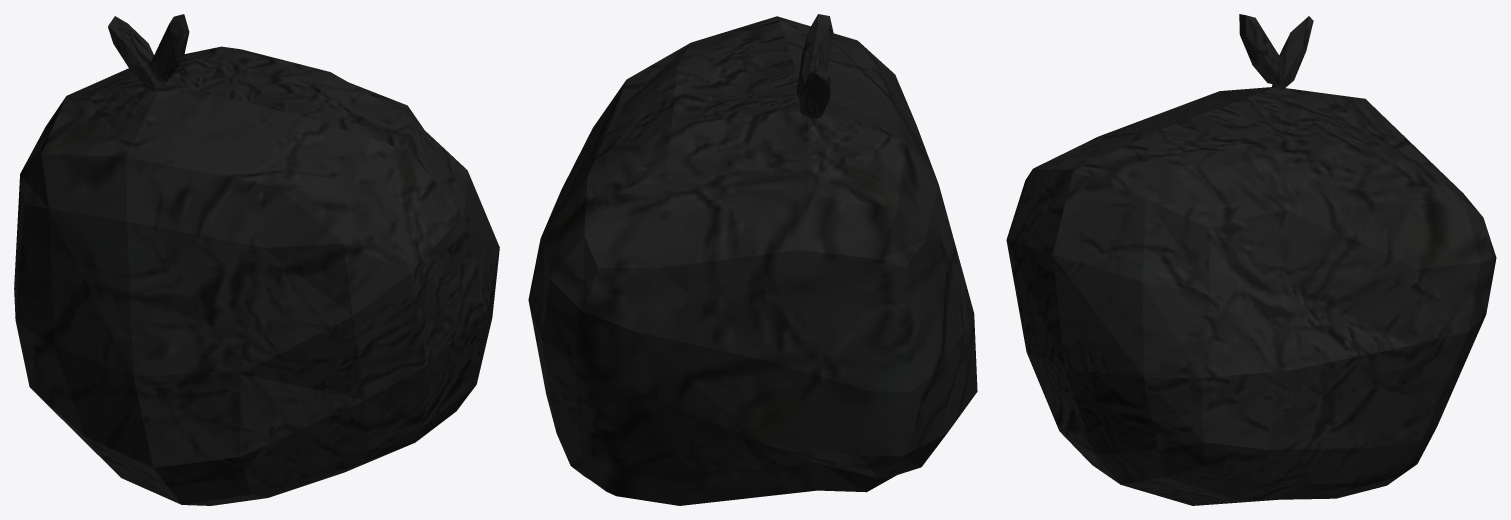
The model's file is strProp_26.glb.
3 renders of one model, left to right at view 1: azimuth 30°, elevation 25°; view 2: azimuth 150°, elevation 25°; view 3: azimuth 270°, elevation 25°, orthographic. The views are drawn at different scales.
Parts seen in each view (by area): view 1: geometry_0; view 2: geometry_0; view 3: geometry_0.
Part boxes in pixels (left/top/right/bottom): geometry_0: left=14, top=14, right=499, bottom=505; geometry_0: left=528, top=14, right=977, bottom=505; geometry_0: left=1006, top=14, right=1496, bottom=505.
Bounding box in the file's own units: 0.5479 × 0.5819 × 0.6087.
1 material, 1 textured.
